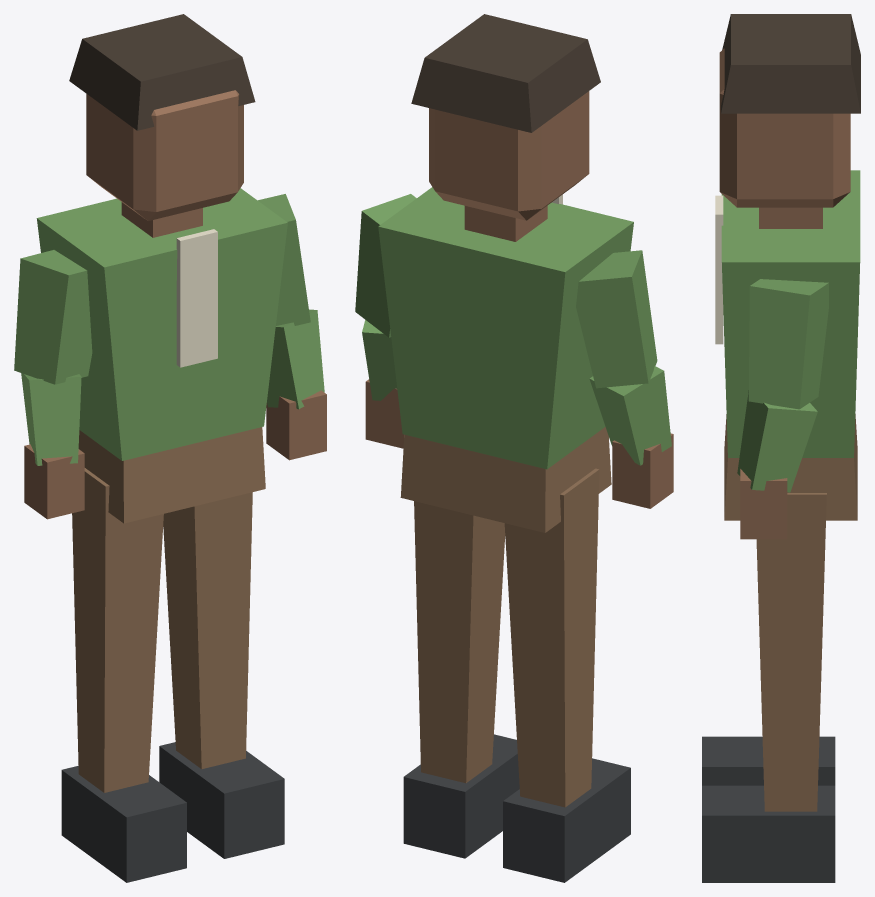
The model's file is Citizen_Male_02_Green_Jacket.fbx.
The picture shows the model from 3 angles, left to right: view 1: azimuth 30°, elevation 25°; view 2: azimuth 150°, elevation 25°; view 3: azimuth 270°, elevation 25°; orthographic projection. The views are drawn at different scales.
Visible parts, largest first — view 1: Citizen_Male_02_Green_Jacket_Mesh; view 2: Citizen_Male_02_Green_Jacket_Mesh; view 3: Citizen_Male_02_Green_Jacket_Mesh.
Boxes of the visible parts, x1,y1,x2,y2 form: Citizen_Male_02_Green_Jacket_Mesh: (14,14,326,882); Citizen_Male_02_Green_Jacket_Mesh: (355,14,673,882); Citizen_Male_02_Green_Jacket_Mesh: (702,14,860,882).
Size of the model in its own units: 71.17 by 185 by 33.14.
